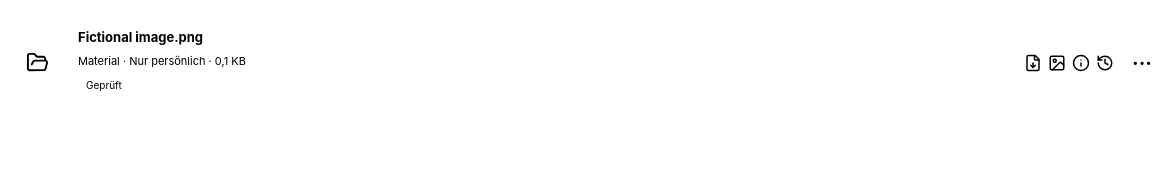
Test: waits for the fresh file check before requesting preview bytes and hides them during revalidation
Later steps or results of the test are not shown.
Click the button named "Vorschau: Fictional image.png" at x=1057, y=62, box [1048,54,1066,72]
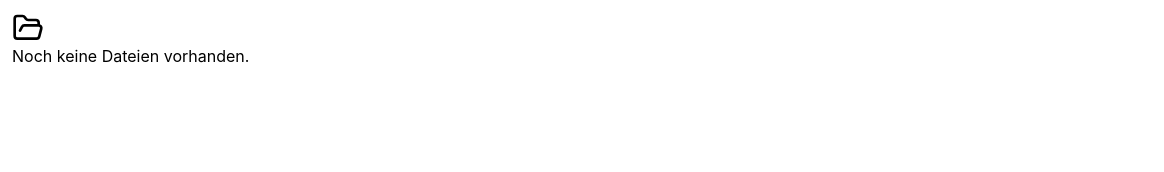
Expected: the text "Fictional image.png" is gone
